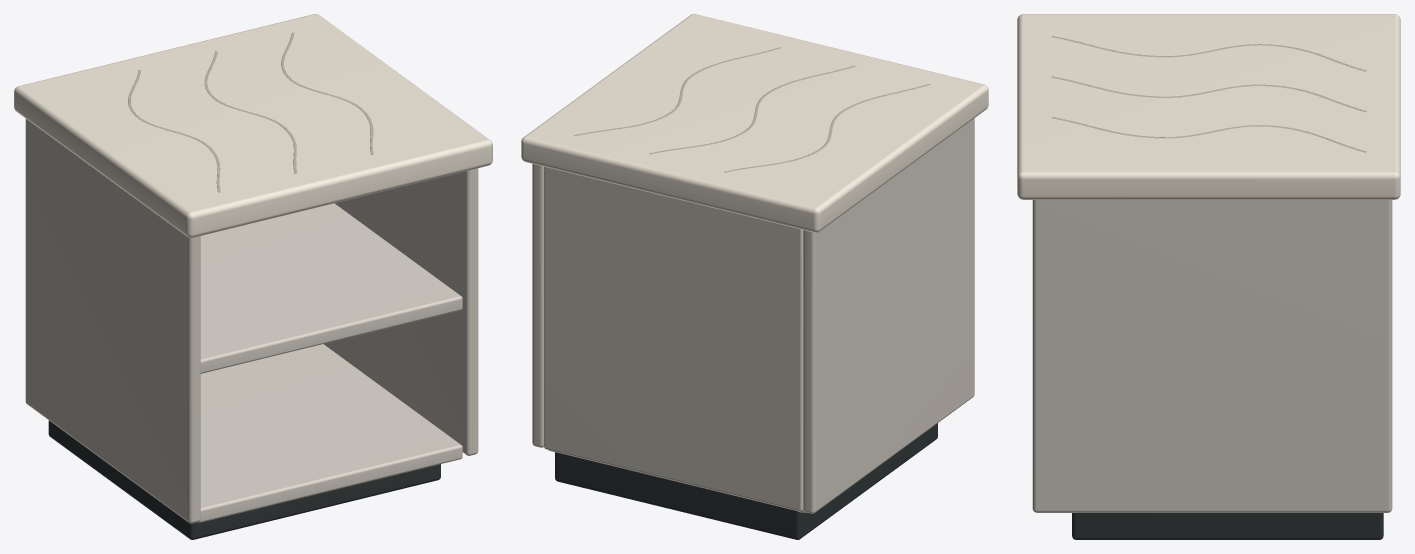
Rendered from kitchenModernFloorShelfWhite.glb.
3 views of the same model, side by side, from view 1: azimuth 30°, elevation 25°; view 2: azimuth 150°, elevation 25°; view 3: azimuth 270°, elevation 25° (orthographic). The views are drawn at different scales.
Visible parts, largest first — view 1: Thick stone worktop, Open shelf side, Shelf, Shelf.001, Open shelf side.001, Recessed kitchen plinth; view 2: Open shelf back, Thick stone worktop, Open shelf side, Recessed kitchen plinth, Open shelf side.001; view 3: Open shelf side.001, Thick stone worktop, Recessed kitchen plinth, Fine stone vein, Fine stone vein.002, Fine stone vein.001.
Part boxes in pixels (x1,y1,x2,y2): Thick stone worktop: (14, 14, 492, 237); Open shelf side: (25, 119, 200, 523); Shelf: (198, 344, 462, 522); Shelf.001: (200, 203, 462, 373); Open shelf side.001: (324, 168, 478, 455); Recessed kitchen plinth: (48, 420, 440, 539); Open shelf back: (544, 166, 803, 511); Thick stone worktop: (521, 14, 988, 232); Open shelf side: (803, 118, 974, 513); Recessed kitchen plinth: (555, 423, 937, 539); Open shelf side.001: (532, 164, 543, 447); Open shelf side.001: (1032, 200, 1392, 512); Thick stone worktop: (1017, 14, 1400, 199); Recessed kitchen plinth: (1072, 513, 1383, 539); Fine stone vein: (1051, 36, 1366, 71); Fine stone vein.002: (1051, 117, 1366, 152); Fine stone vein.001: (1051, 76, 1366, 112).
Size of the model in its own units: 1.12 by 1.23 by 1.12.
